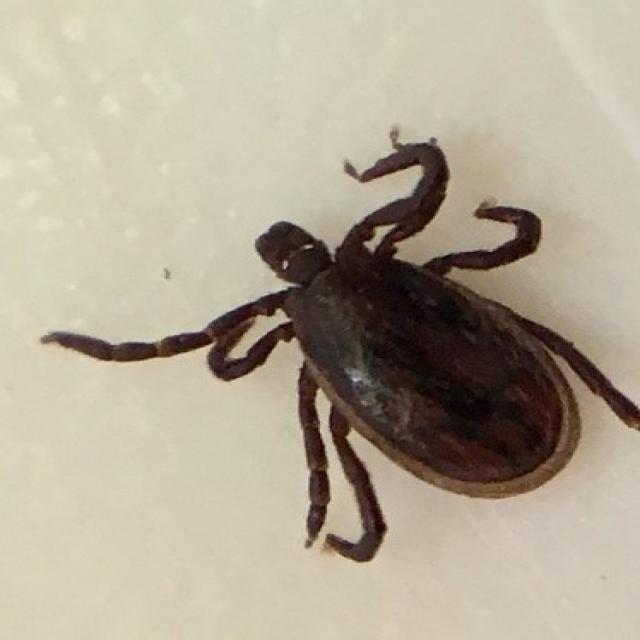Ixodes Ricinus-M: (39, 127, 640, 561)
